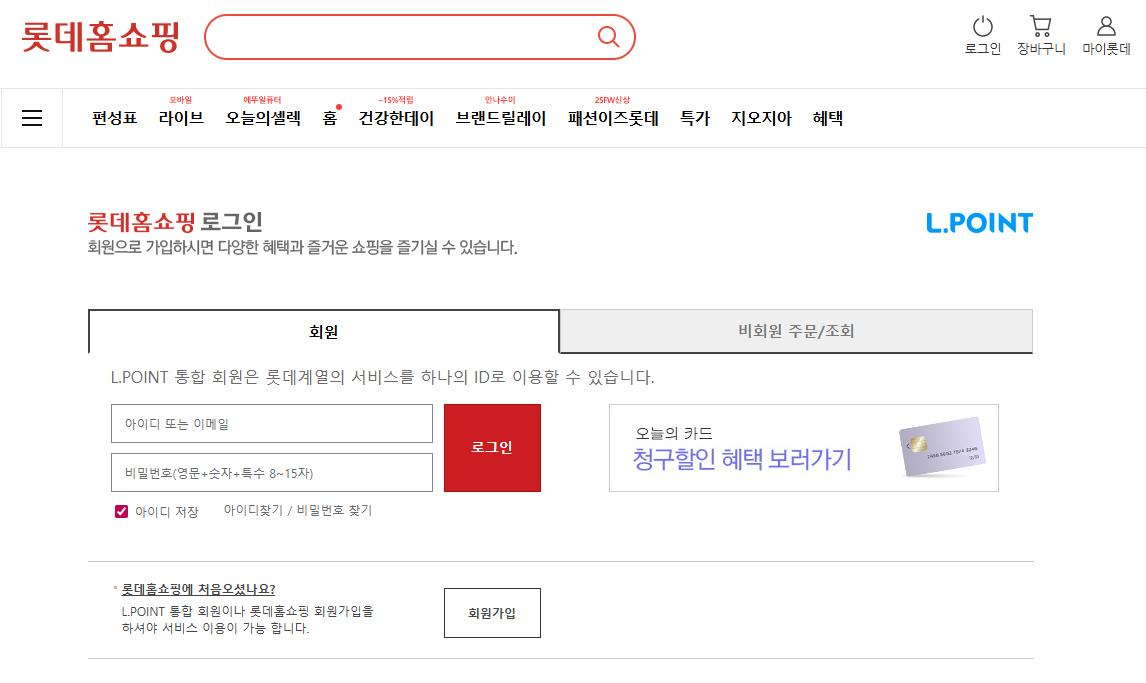button: (89, 310, 559, 352), (565, 311, 1032, 352), (443, 399, 542, 496), (441, 582, 544, 641), (559, 89, 665, 146), (452, 85, 551, 146), (359, 83, 438, 147), (223, 84, 301, 142), (152, 87, 216, 145), (727, 91, 795, 144), (1080, 3, 1139, 64), (1015, 6, 1072, 66), (121, 578, 278, 598), (4, 90, 63, 143), (802, 89, 859, 143), (669, 91, 722, 142), (82, 92, 142, 137), (962, 8, 1008, 63), (312, 85, 351, 144), (294, 500, 381, 522), (221, 498, 285, 521)
checkbox: (111, 498, 207, 525)
input_field: (202, 14, 637, 61), (110, 449, 434, 492), (111, 402, 434, 440)
popup: (602, 396, 1010, 502)
